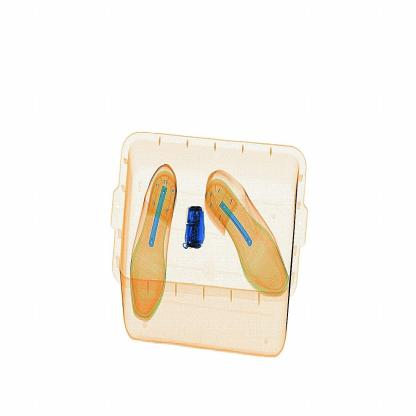scissors: (175, 204, 212, 254)
